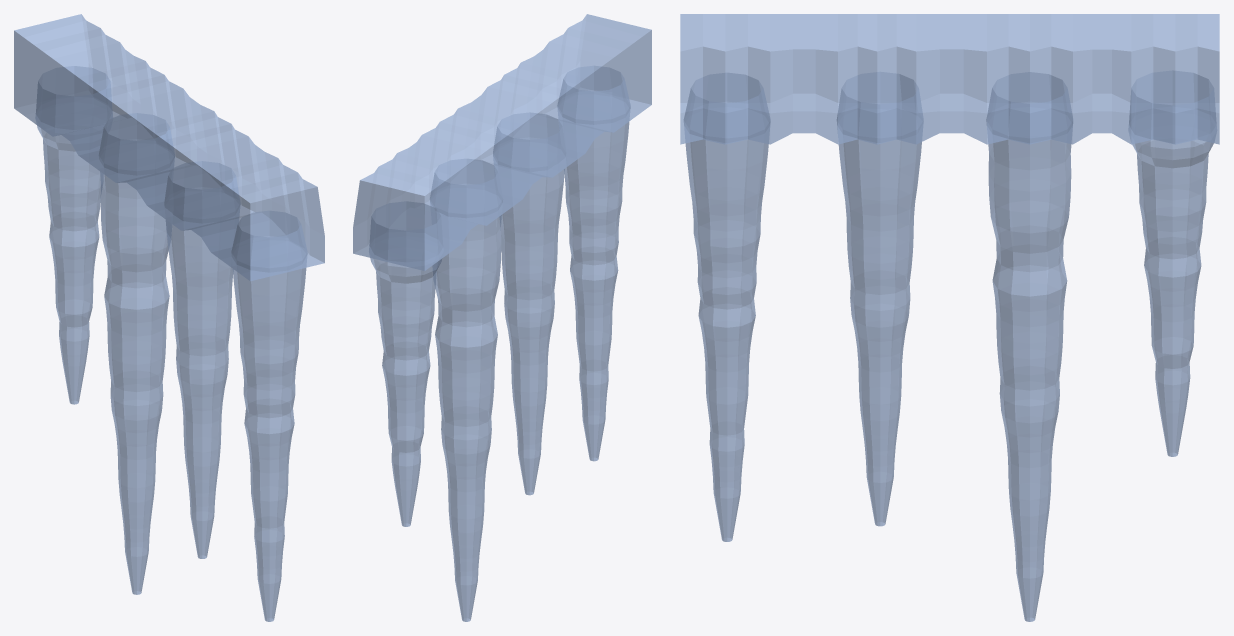
File: sosylka.fbx
The picture shows the model from 3 angles, left to right: view 1: azimuth 30°, elevation 25°; view 2: azimuth 150°, elevation 25°; view 3: azimuth 270°, elevation 25°; orthographic projection. The views are drawn at different scales.
Parts seen in each view (by area): view 1: Куб, Окружность.001, Окружность.002, Окружность, Окружность.003; view 2: Куб, Окружность.001, Окружность.002, Окружность, Окружность.003; view 3: Куб, Окружность.001, Окружность.002, Окружность, Окружность.003.
Part boxes in pixels (<box>): Куб: <box>14,14,324,281</box>; Окружность.001: <box>99,113,174,594</box>; Окружность.002: <box>231,211,307,621</box>; Окружность: <box>164,161,240,558</box>; Окружность.003: <box>36,66,112,404</box>; Куб: <box>353,14,651,270</box>; Окружность.001: <box>430,159,502,621</box>; Окружность.002: <box>557,66,630,461</box>; Окружность: <box>493,112,565,495</box>; Окружность.003: <box>369,201,442,526</box>; Куб: <box>680,14,1219,144</box>; Окружность.001: <box>986,72,1072,621</box>; Окружность.002: <box>684,73,770,541</box>; Окружность: <box>837,72,923,526</box>; Окружность.003: <box>1129,70,1216,456</box>.
Size of the model in its own units: 121 by 794 by 662.
